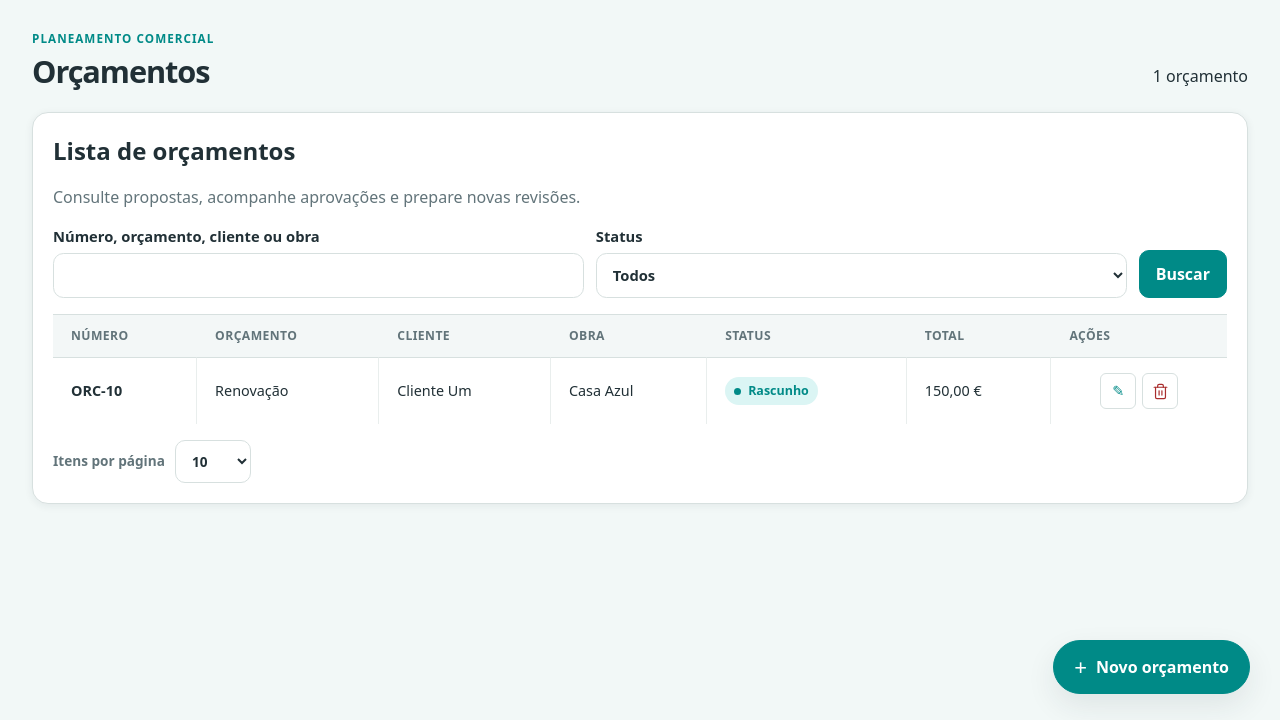
Test: budget routes › opens budget details over the list and returns to the list when closed
The image size is (1280, 720).
Click the row named "Abrir detalhes do orçamento ORC-10".
click(640, 391)  # box [53, 357, 1227, 424]
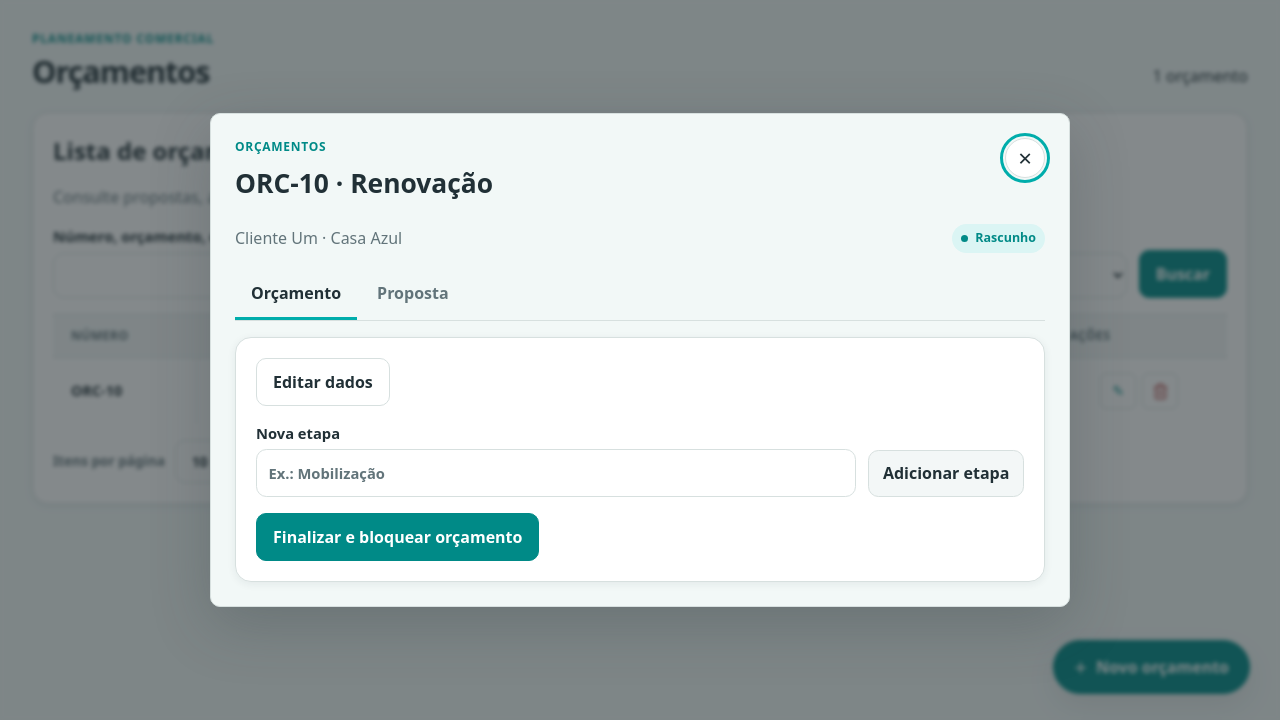
Expected: the table named "Lista de orçamentos" is shown, [53, 315, 1227, 424]
Result: the heading "ORC-10 · Renovação" is shown at [235, 164, 493, 204]
Click the button named "Fechar orçamento".
click(1025, 158)  # box [1005, 138, 1045, 178]
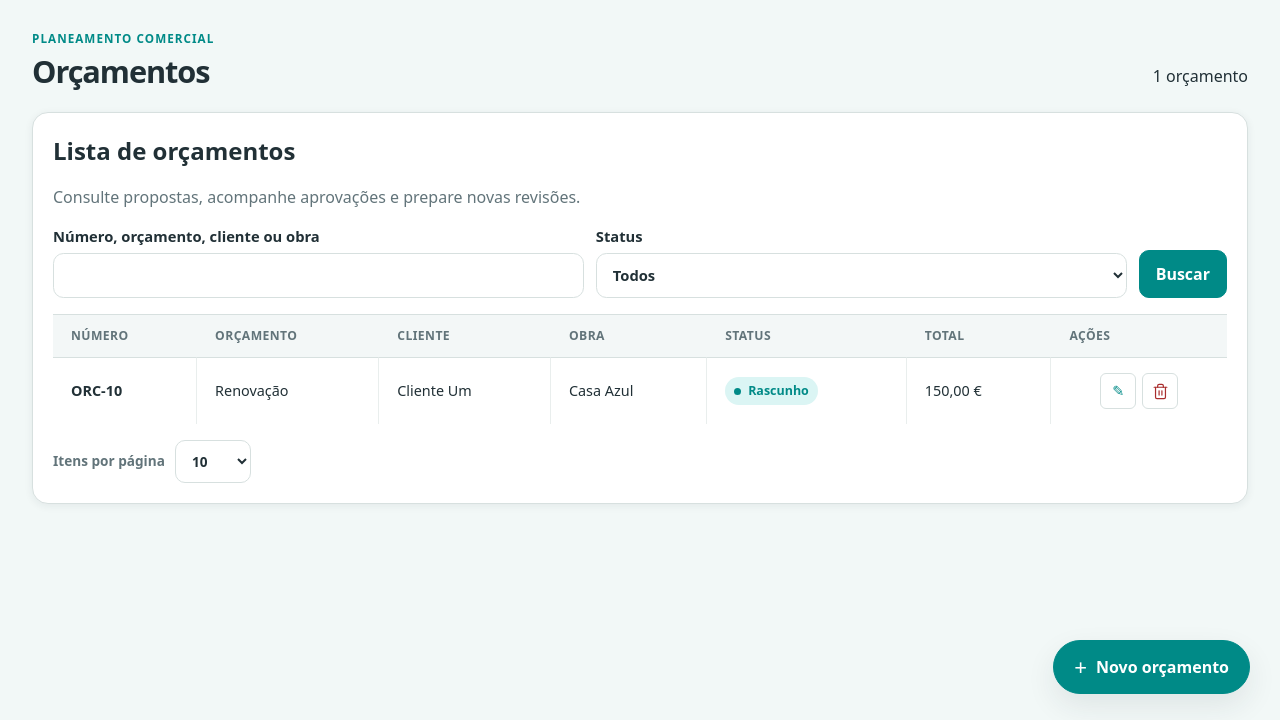
Expected: the table named "Lista de orçamentos" is shown, [53, 315, 1227, 424]
Result: the heading "ORC-10 · Renovação" is gone
